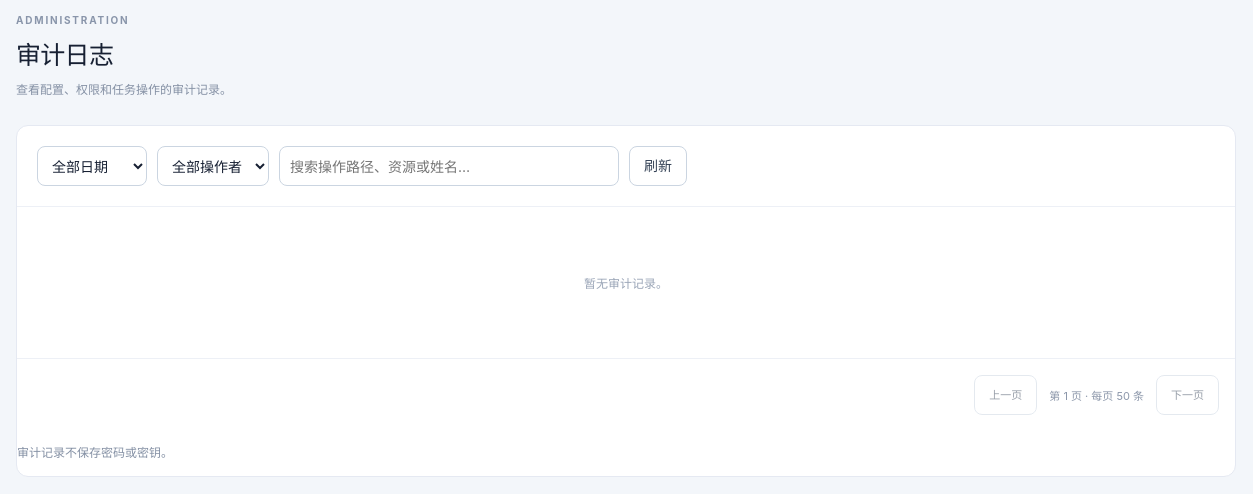
Test: keeps the newest audit search when an older request resolves last
The width and height of the screenshot is (1253, 494).
Type "older" into the field with placeholder "搜索操作路径、资源或姓名…" at [449, 166], box [279,146,619,186]
Wait 260 ms
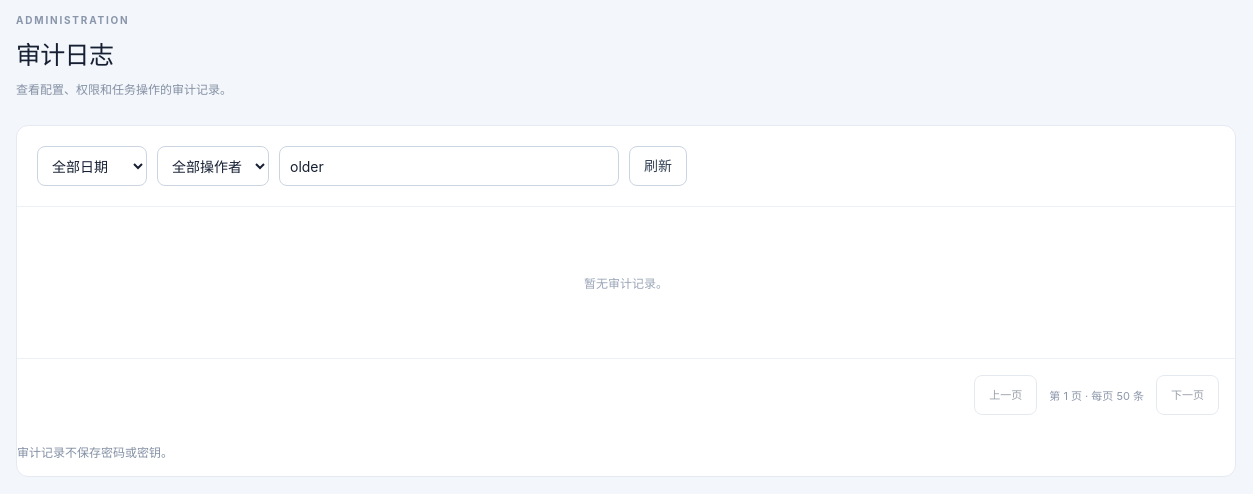
Replace the text in the field with "newer" at [449, 166], box [279,146,619,186]
Wait 260 ms
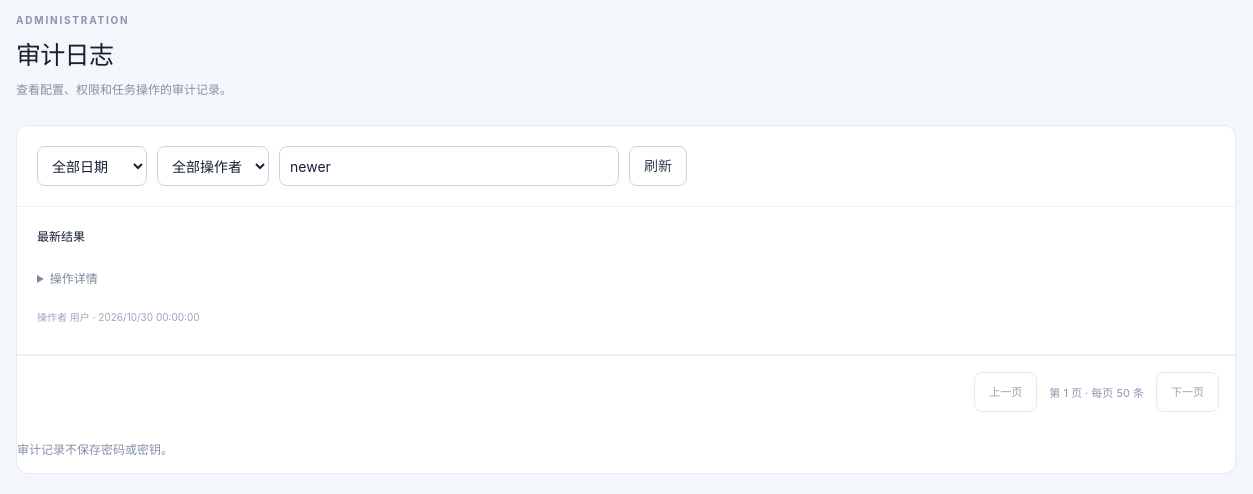
Now the text "最新结果" is shown, box [37,229,85,244]
